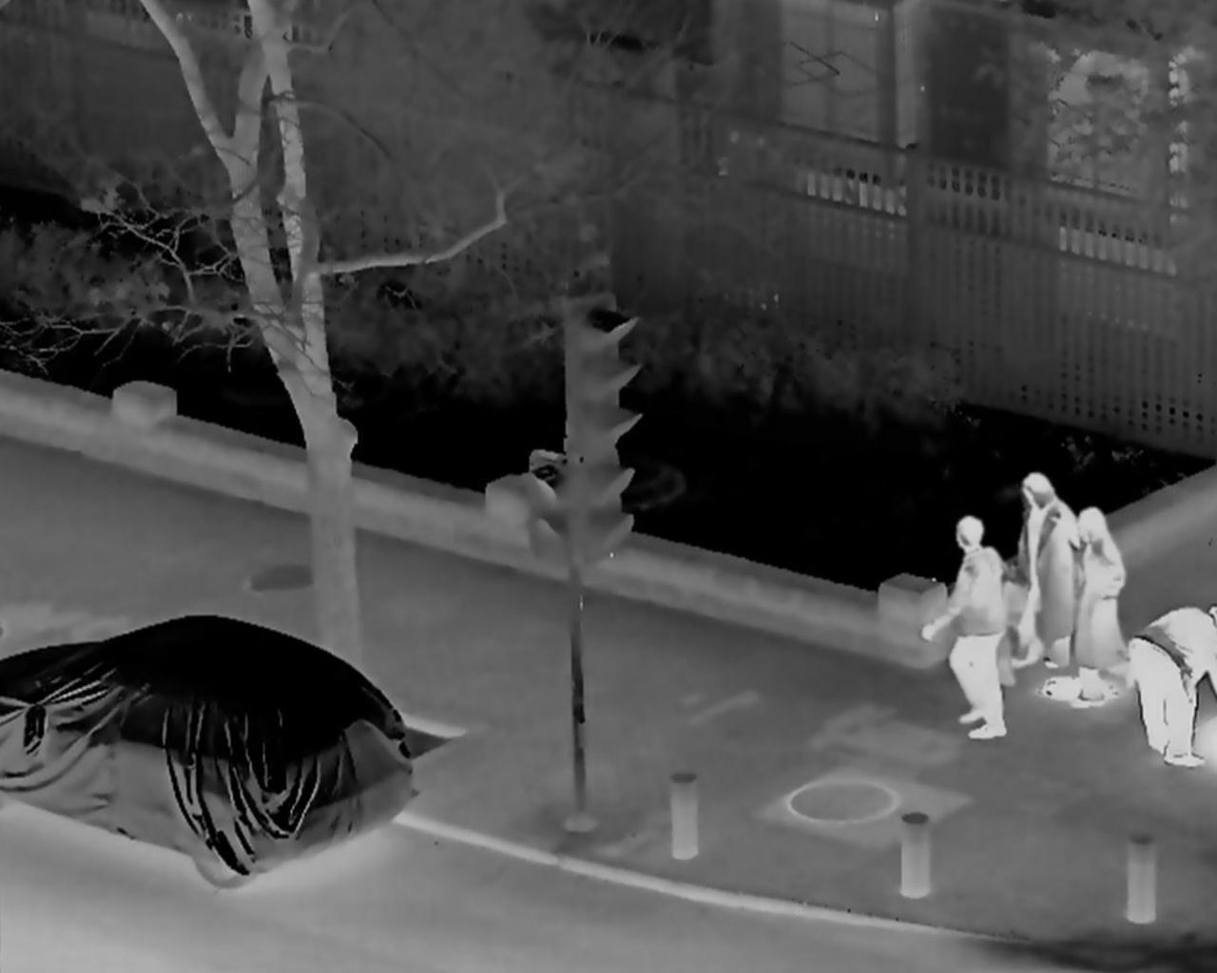person: (921, 515, 1009, 741), (1127, 598, 1217, 767), (1005, 468, 1075, 674), (1060, 510, 1123, 703)
